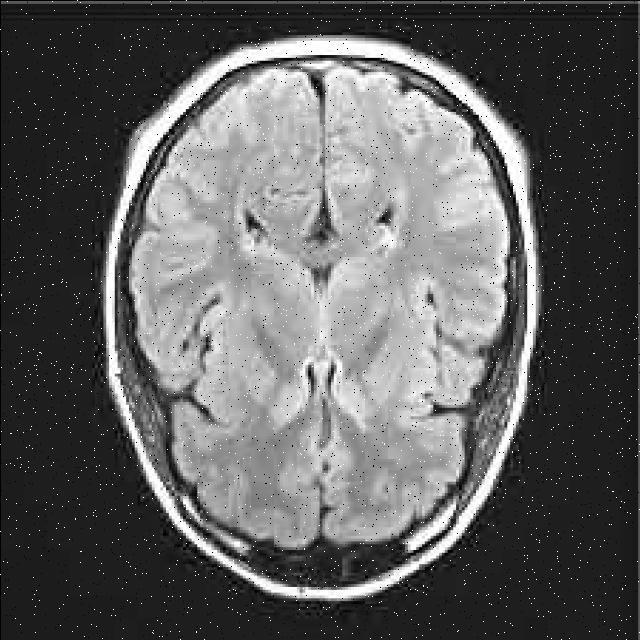No_Tumor: (103, 37, 538, 599)
